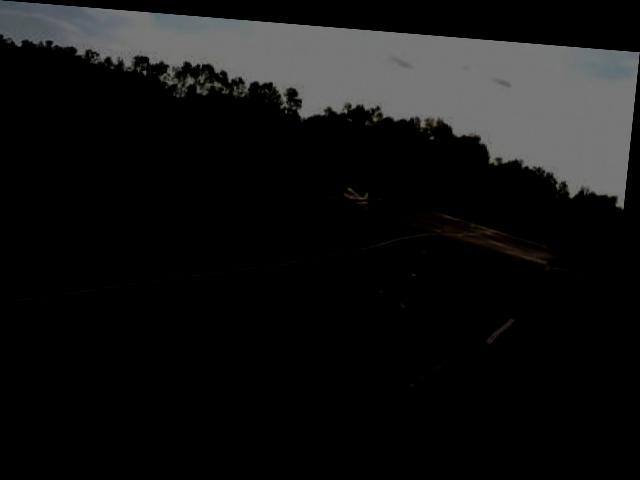uav: (318, 168, 391, 210)
